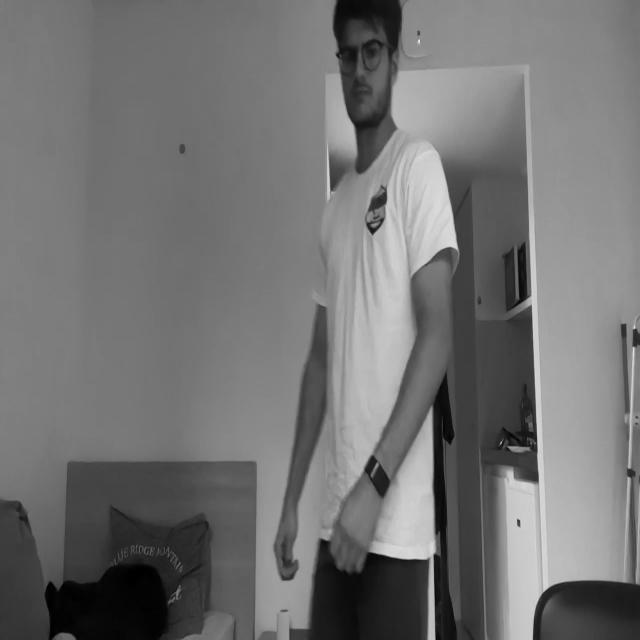elbow: (418, 321, 456, 366), (304, 350, 332, 388)
hand: (331, 476, 378, 574), (274, 501, 300, 580)
shoulder: (405, 146, 445, 230)
